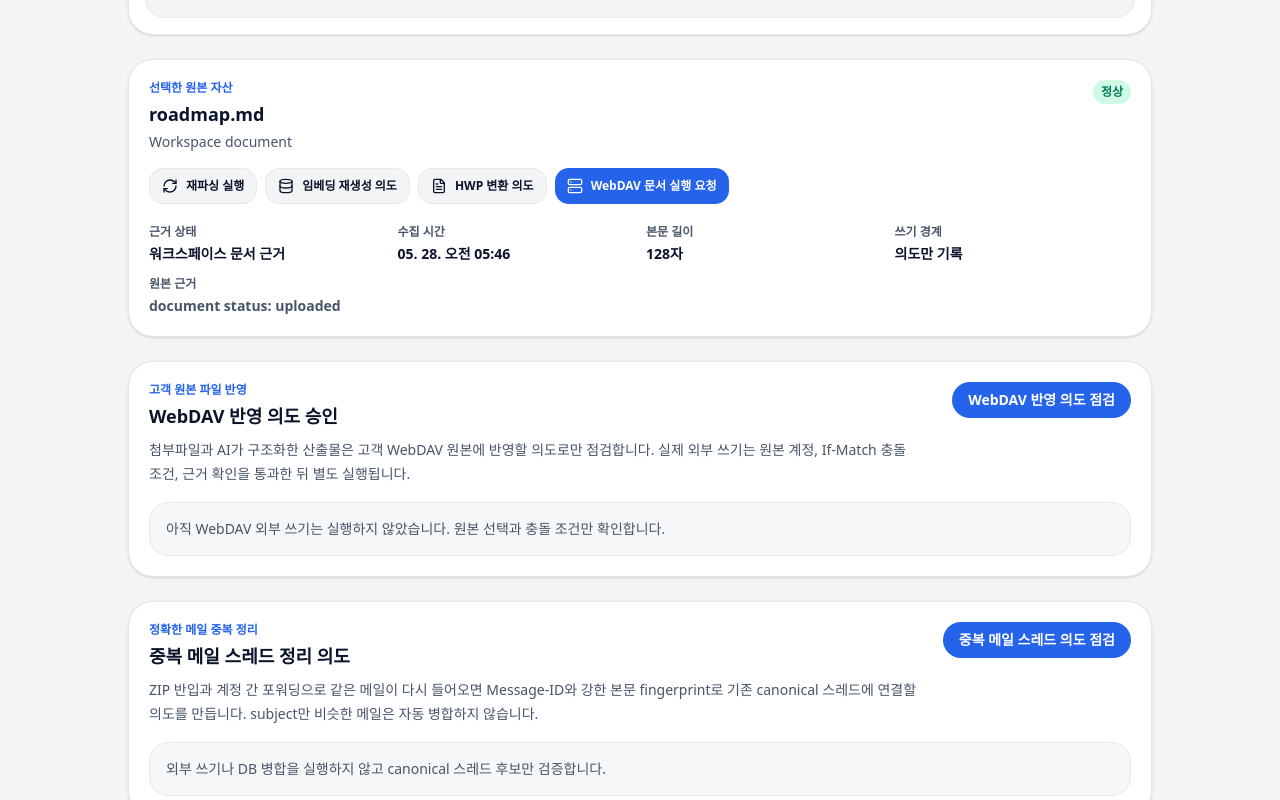
Scenario: DataPage › sanitizes WebDAV source labels that contain opaque source ids
The image size is (1280, 800).
(page scrolled)
Click the button "WebDAV 반영 의도 점검" at (1042,400), box [952, 382, 1131, 418]
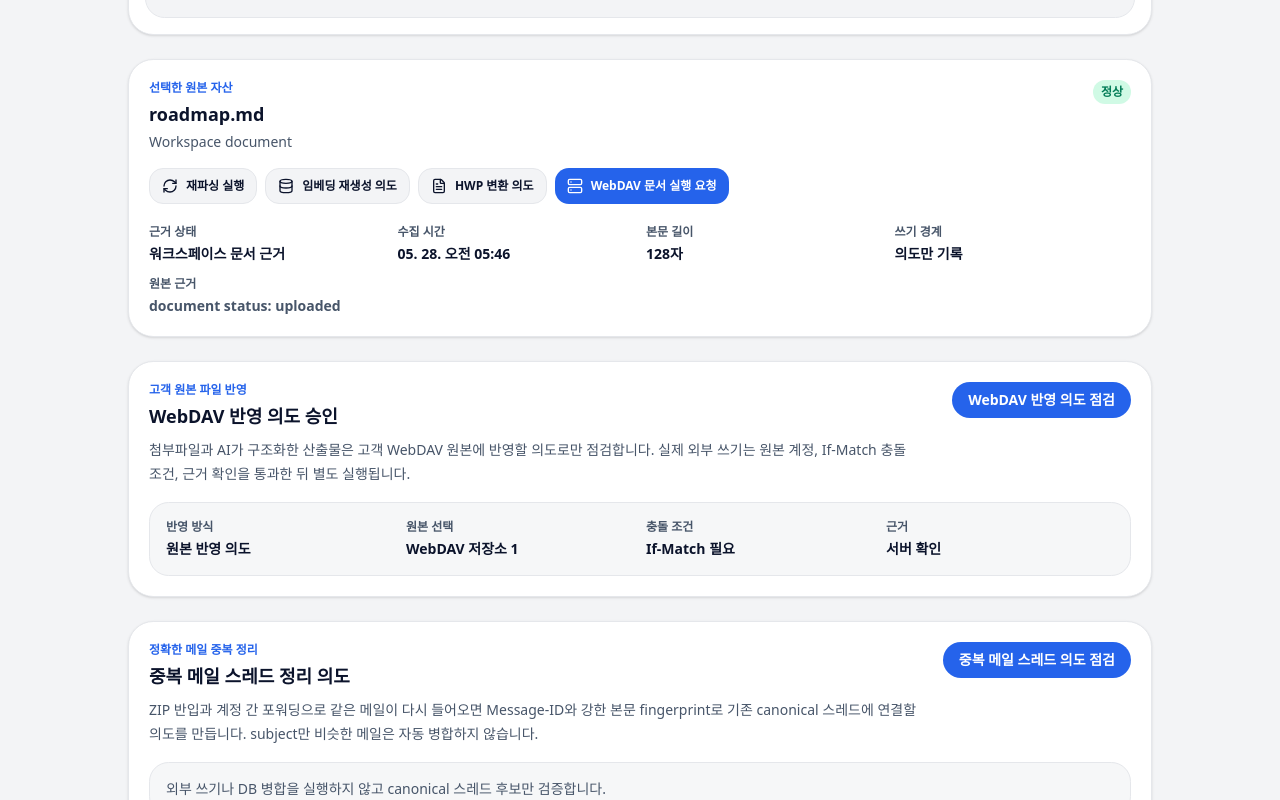
Expected: the text "WebDAV 저장소 1" is shown, [406, 539, 519, 558]
Now the text "서버 확인" is shown, box [886, 539, 941, 558]
